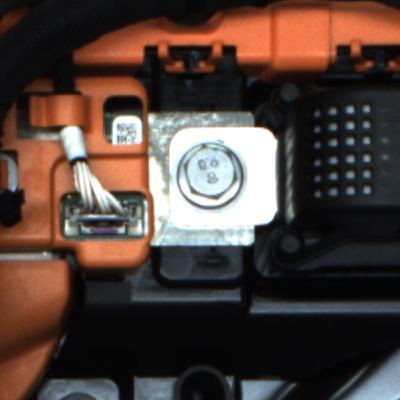nut_b: (178, 137, 240, 215)
